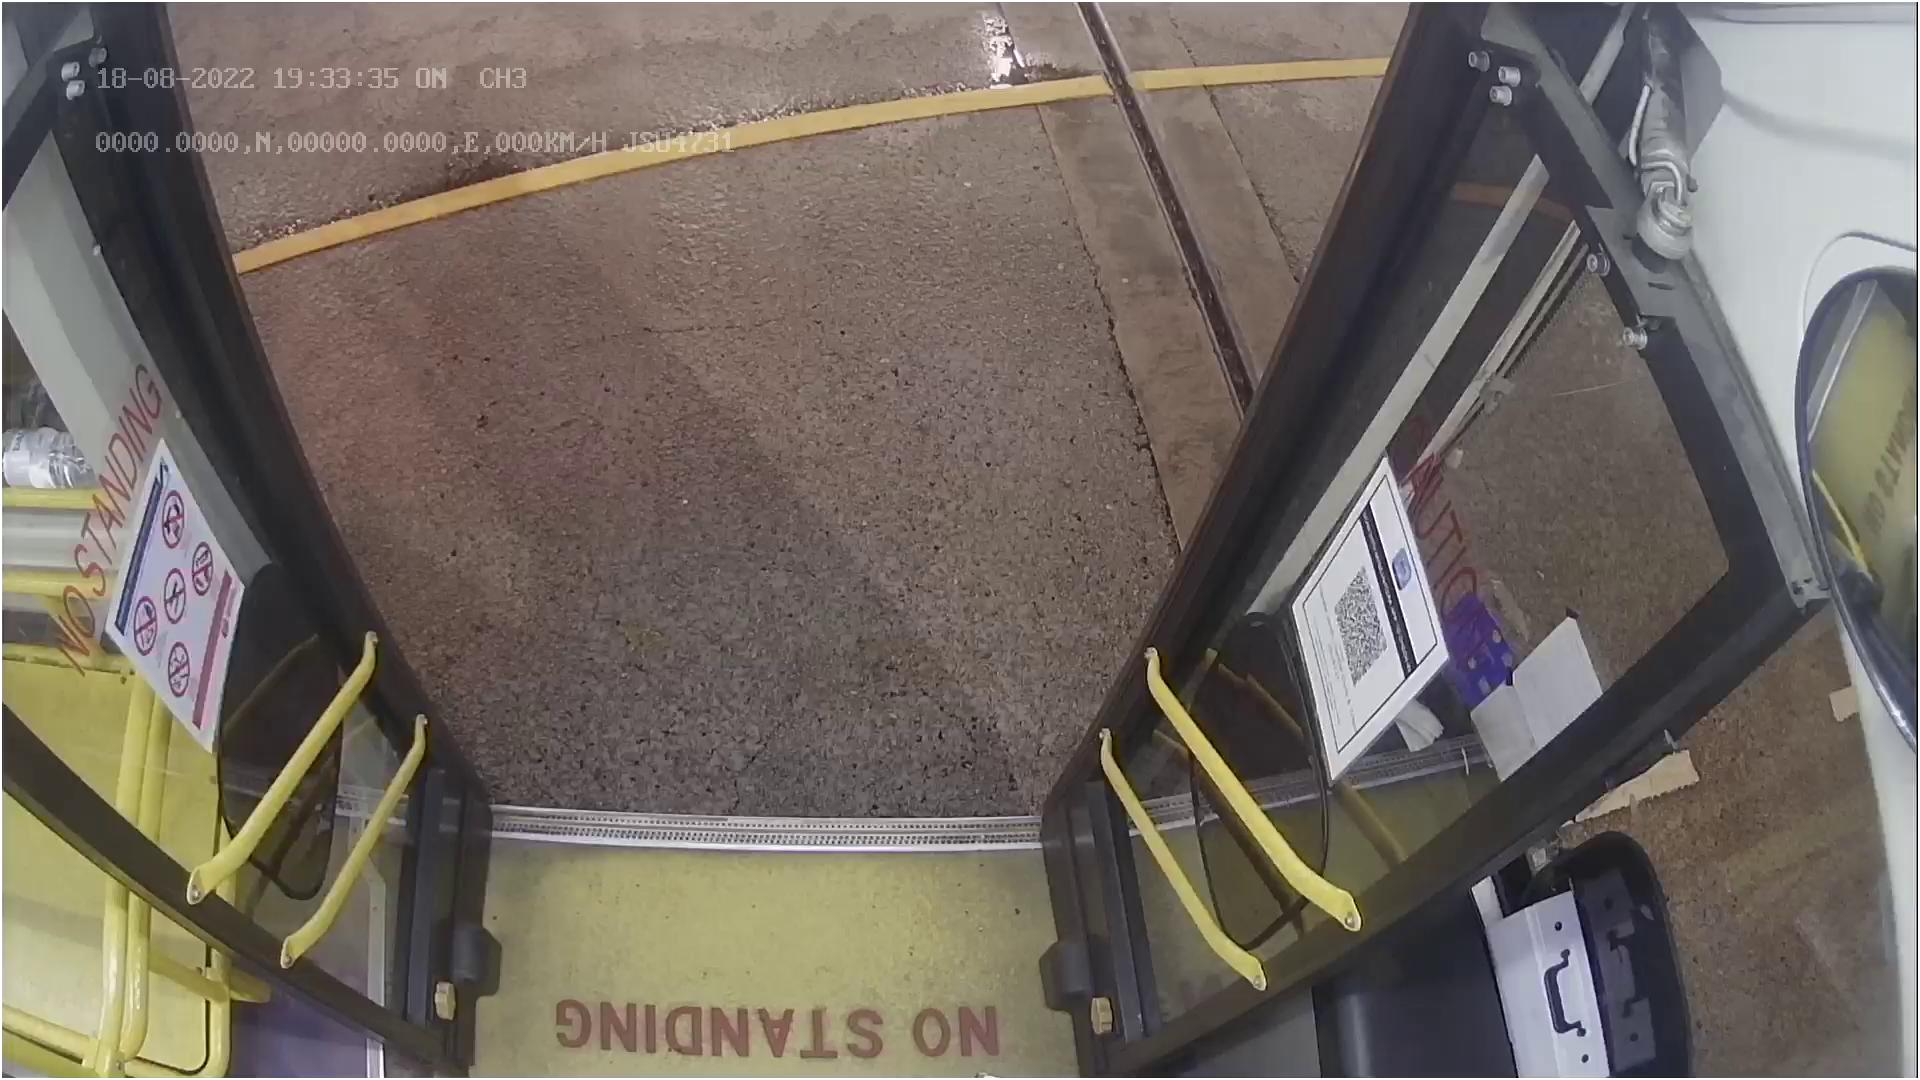open: (173, 0, 1389, 165)
